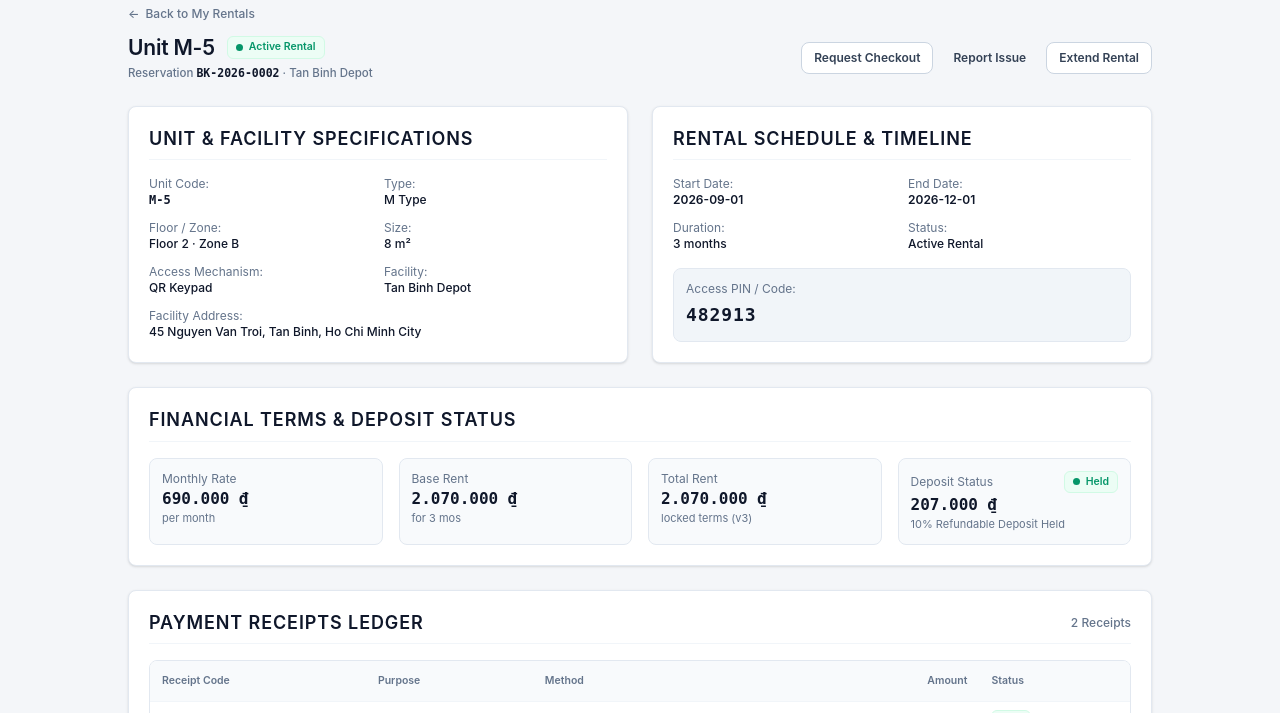
Scenario: Story 6.1: Customer Checkout Request › shows Request Checkout button on CHECKED_IN rental and opens modal with settlement guide
This screenshot has width=1280, height=713.
Expected: the heading "Unit M-5" is shown, x1=128 y1=34 x2=215 y2=61
Click the button with test id "request-checkout-btn". click: click(867, 58)
box: x1=801 y1=42 x2=933 y2=74
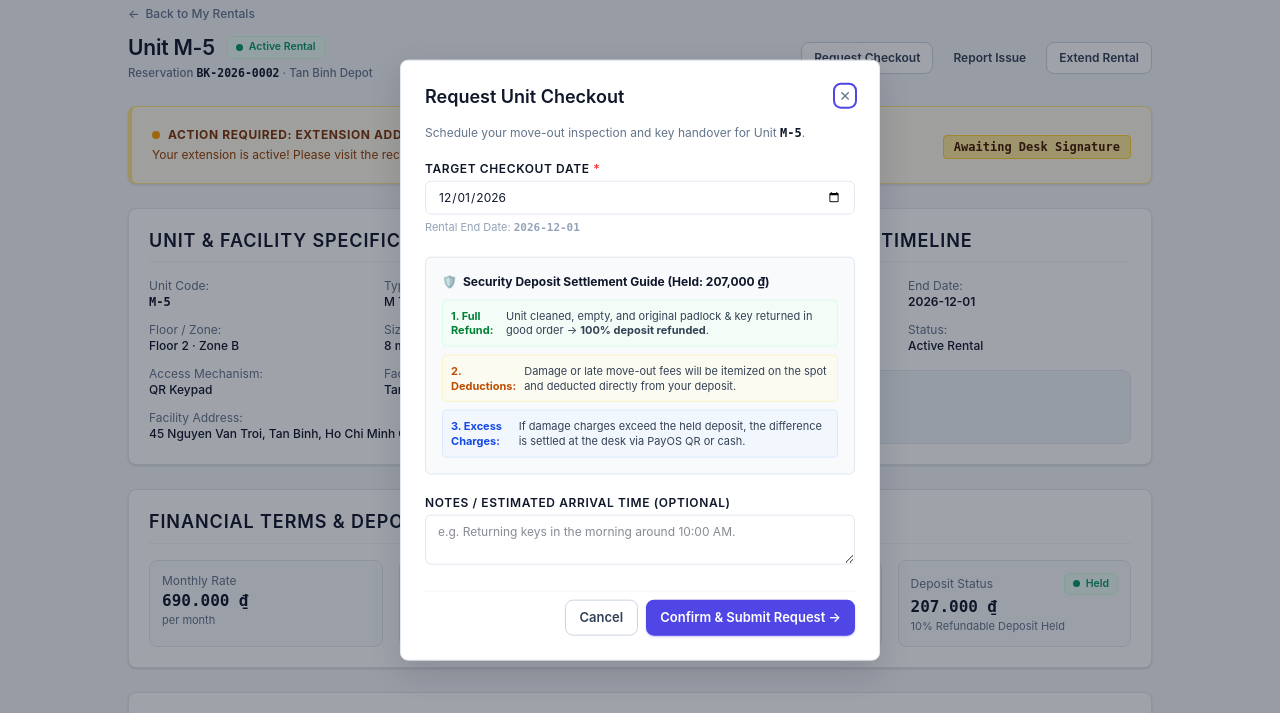
Now the form with test id "checkout-request-modal" is shown, box x1=425 y1=125 x2=855 y2=635
Now the heading "Request Unit Checkout" is shown, box x1=425 y1=86 x2=624 y2=107
Now the text "1. Full Refund:" is shown, box x1=451 y1=308 x2=498 y2=338
